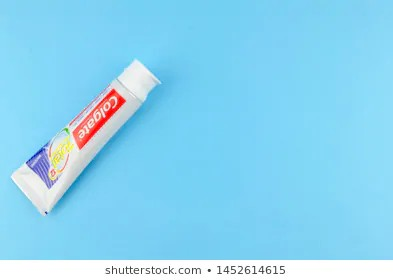colgate-total-150gm: (8, 57, 168, 214)
